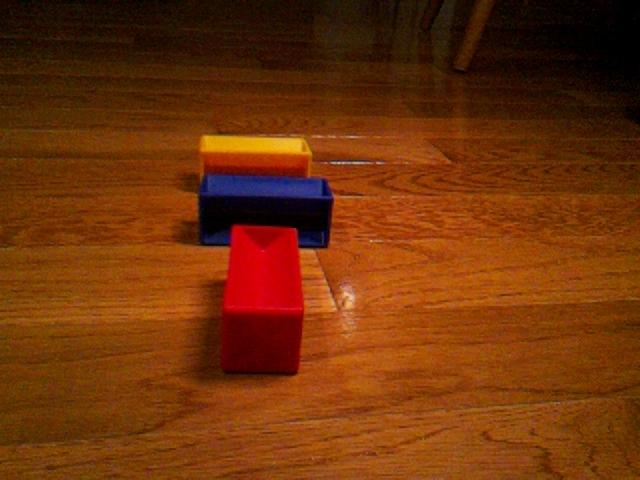blue: (197, 172, 335, 249)
red: (219, 223, 306, 376)
yellow: (198, 133, 313, 179)
